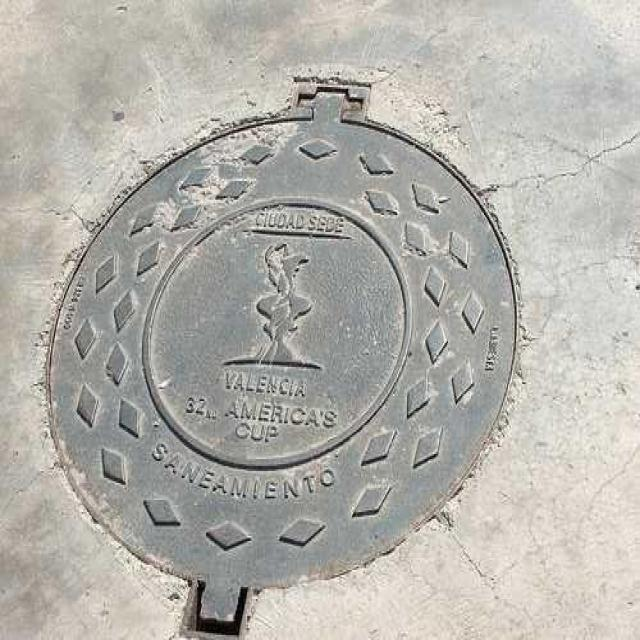manhole: (47, 82, 518, 628)
